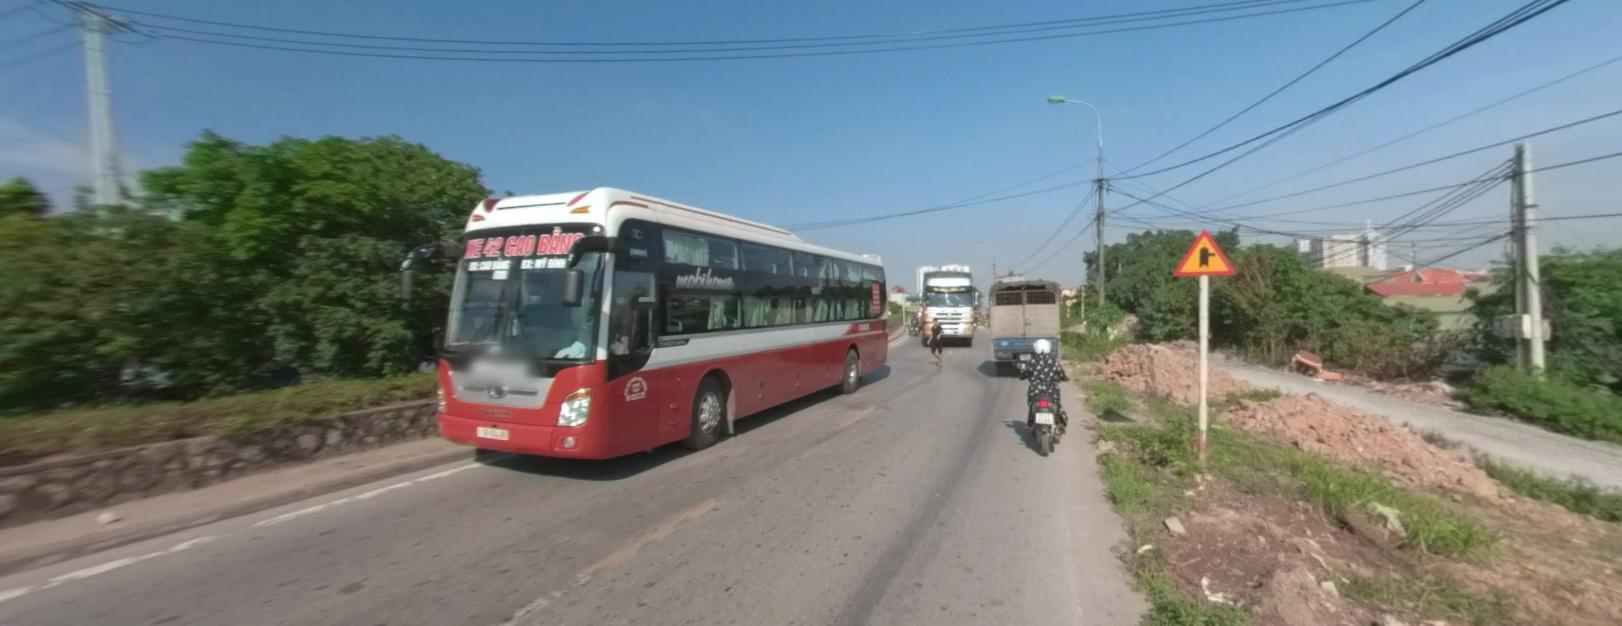Nguy hiem: (1175, 223, 1236, 274)
